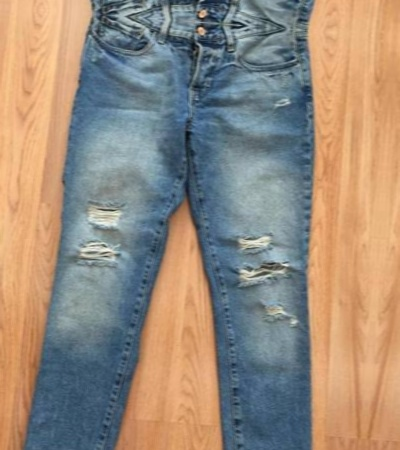Pants: (15, 20, 362, 450), (50, 0, 397, 25), (394, 49, 400, 450)
